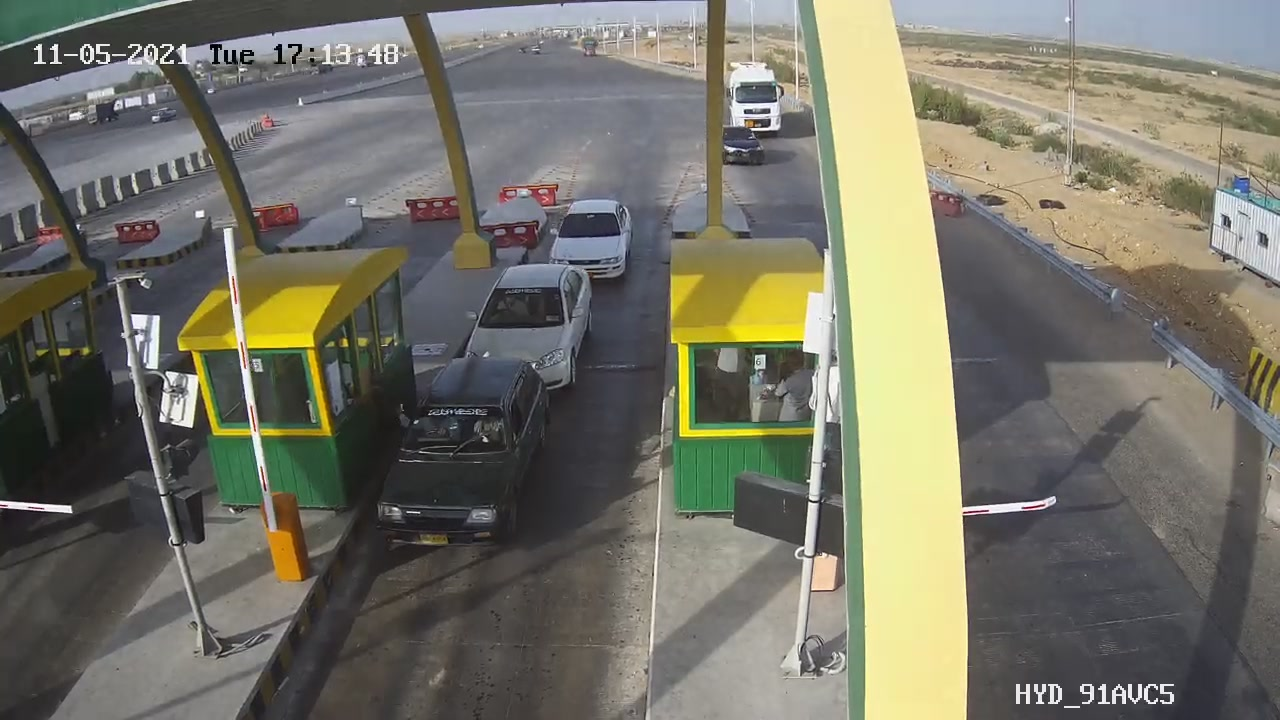F1: (356, 344, 568, 569), (446, 253, 613, 416), (539, 182, 648, 300)
